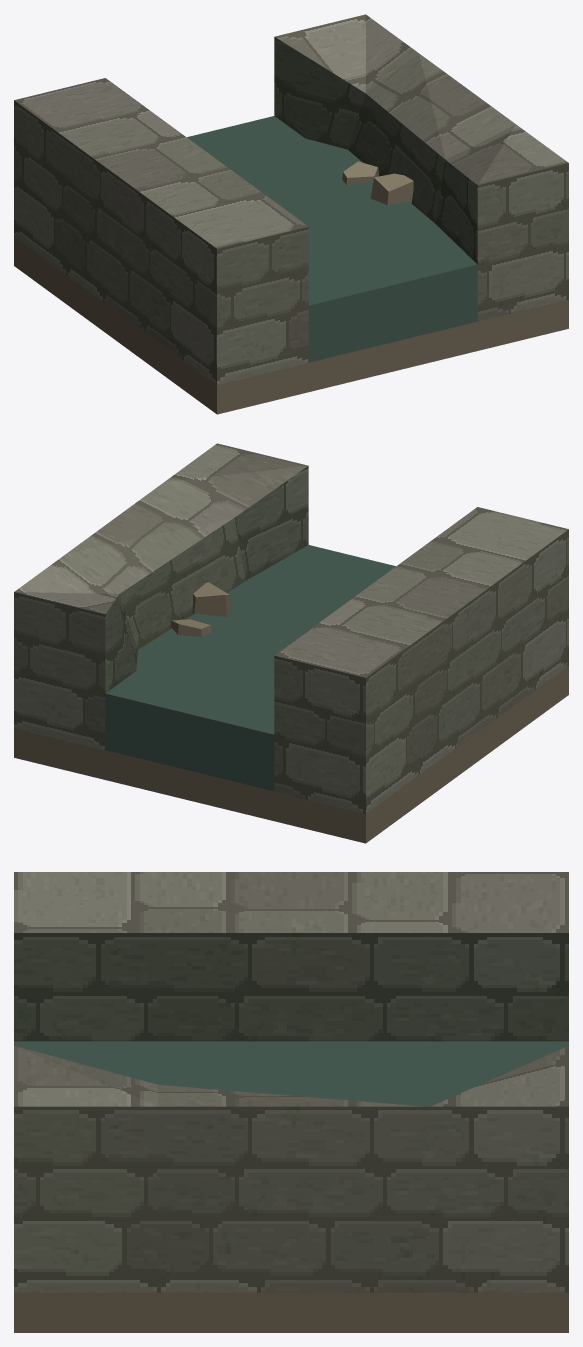
File: scoured_race.glb
The picture shows the model from 3 angles, top to bottom: view 1: azimuth 30°, elevation 25°; view 2: azimuth 150°, elevation 25°; view 3: azimuth 270°, elevation 25°; orthographic projection. The views are drawn at different scales.
Parts seen in each view (by area): view 1: Scoured race; view 2: Scoured race; view 3: Scoured race.
Part boxes in pixels (x1,y1,x2,y2): Scoured race: (14, 14, 568, 414); Scoured race: (14, 443, 568, 843); Scoured race: (14, 872, 568, 1332).
Bounding box in the file's own units: 2 × 0.9 × 2.
Materials: 7 (3 with a texture image).
